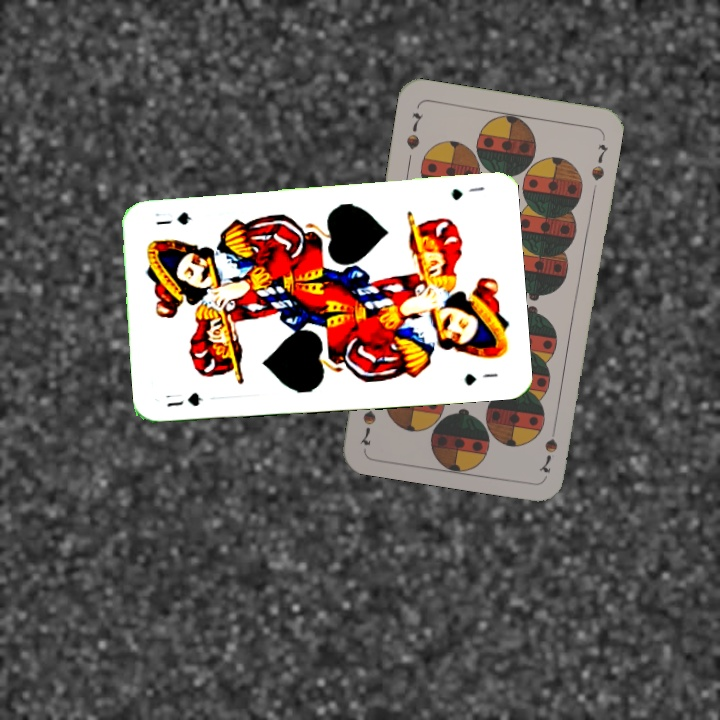GU: (163, 388, 206, 410), (447, 182, 487, 203)
S7: (535, 418, 560, 476), (402, 108, 426, 152)
